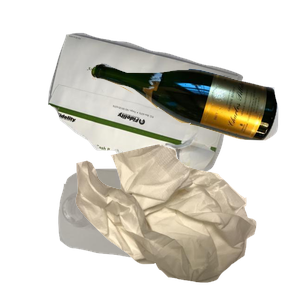glass: (88, 60, 300, 193)
paper: (45, 30, 281, 195)
plastic: (56, 166, 241, 300)
trash: (73, 142, 300, 300)
